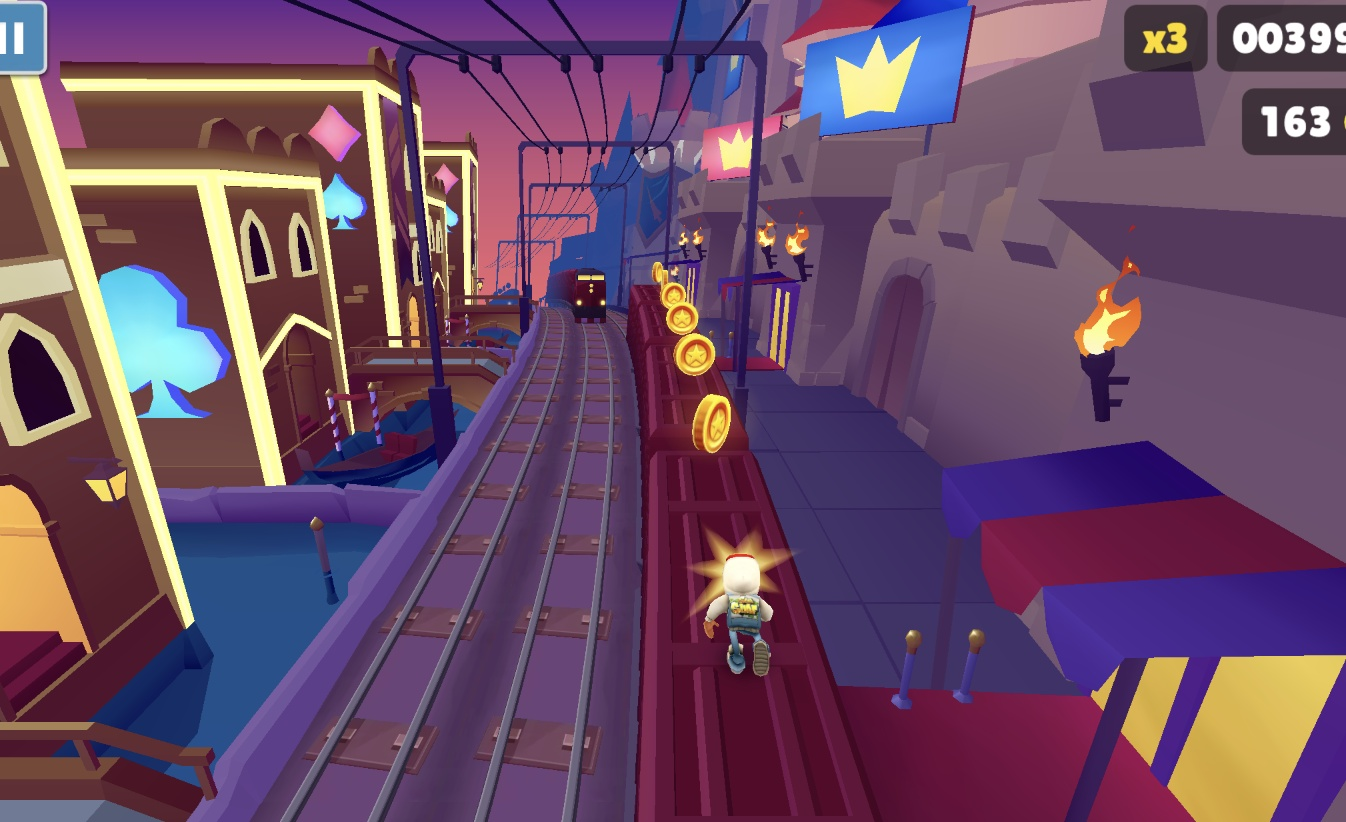train: (624, 283, 888, 822), (550, 267, 609, 323)
